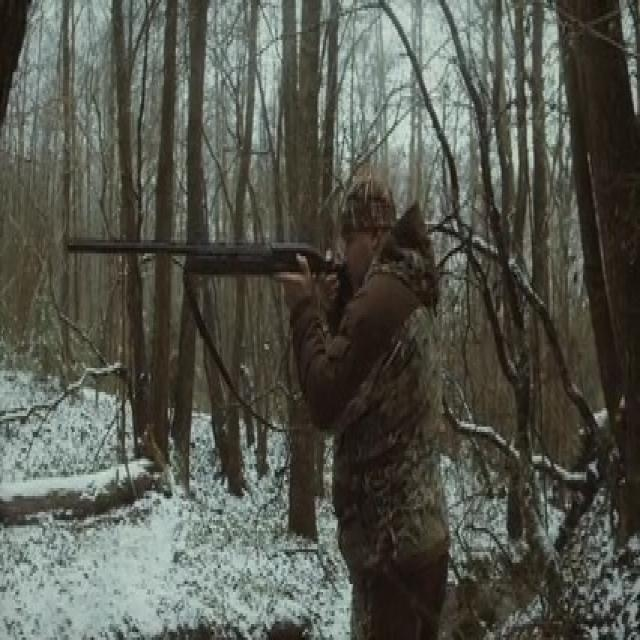Gun_Holder: (67, 230, 351, 351)
Person: (287, 164, 453, 640)
